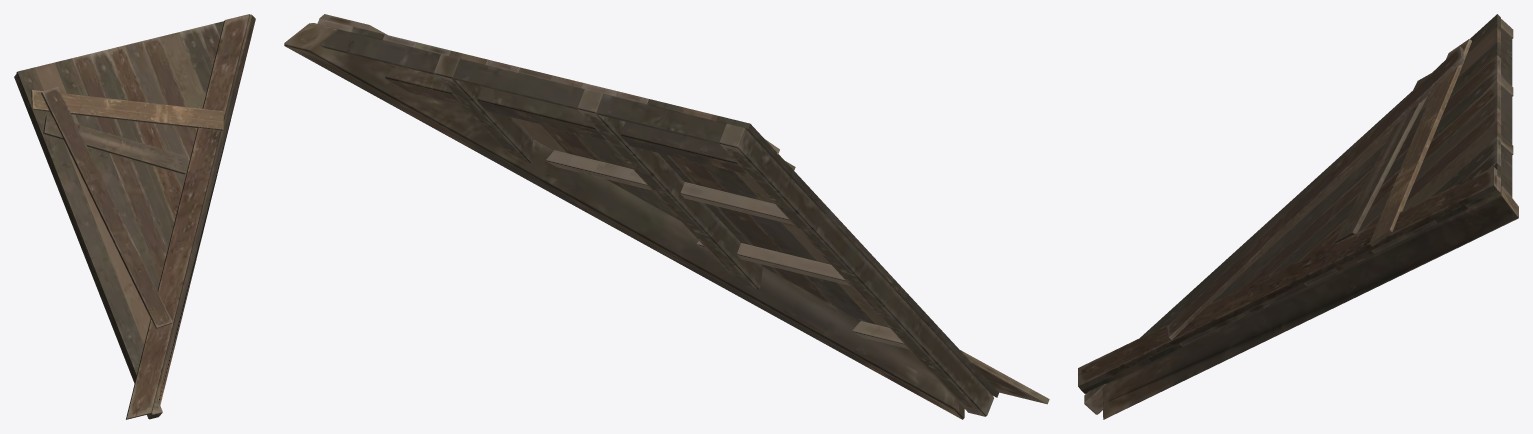
File: roof.frontier.corner.90.concave.r.glb
3 renders of one model, left to right at view 1: azimuth 30°, elevation 25°; view 2: azimuth 150°, elevation 25°; view 3: azimuth 270°, elevation 25°, orthographic. The views are drawn at different scales.
Parts seen in each view (by area): view 1: roof.corner.90.concave.R_LOD0; view 2: roof.corner.90.concave.R_LOD0; view 3: roof.corner.90.concave.R_LOD0.
Boxes of the visible parts, x1=… form: roof.corner.90.concave.R_LOD0: x1=14, y1=14, x2=255, y2=419; roof.corner.90.concave.R_LOD0: x1=284, y1=14, x2=1049, y2=419; roof.corner.90.concave.R_LOD0: x1=1078, y1=14, x2=1518, y2=419.
Bounding box in the file's own units: 3.49 × 3.18 × 3.18.
Materials: 1 (1 with a texture image).
